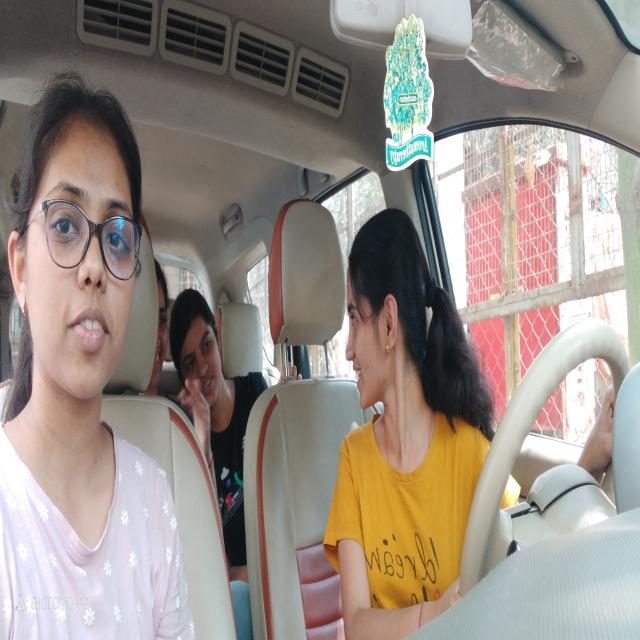LeftRight: (340, 209, 430, 451)
person: (3, 72, 149, 426), (174, 287, 227, 401), (156, 261, 166, 389)
talking: (350, 357, 370, 389)
